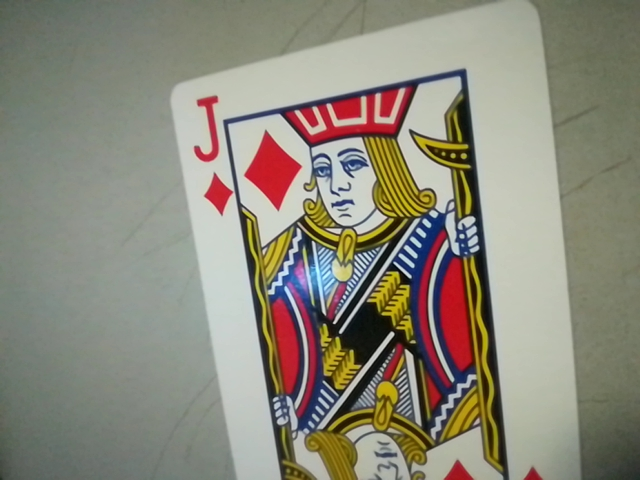fk j: (181, 88, 235, 218)
